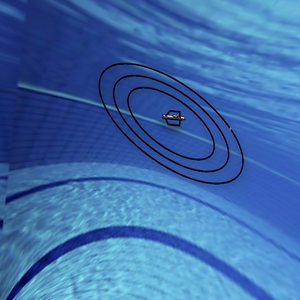circle: (81, 44, 252, 193)
submarine: (153, 99, 194, 134)
